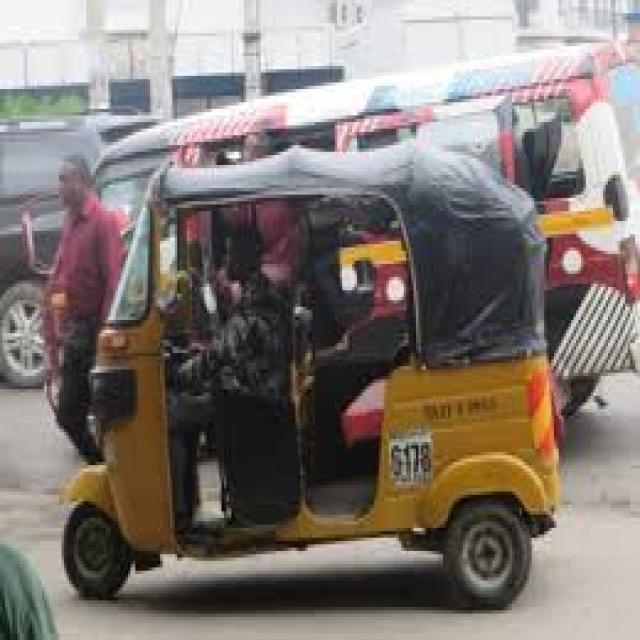tuktuk: (30, 121, 613, 634)
